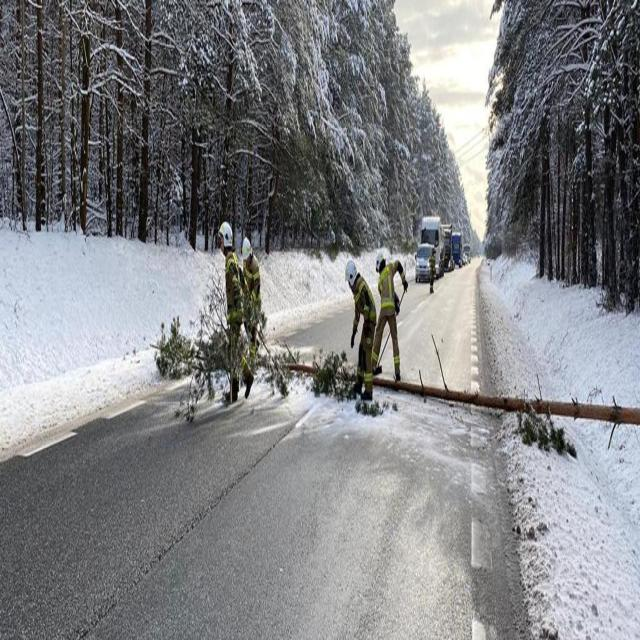fallen_tree: (375, 377, 640, 424), (260, 358, 352, 379)
